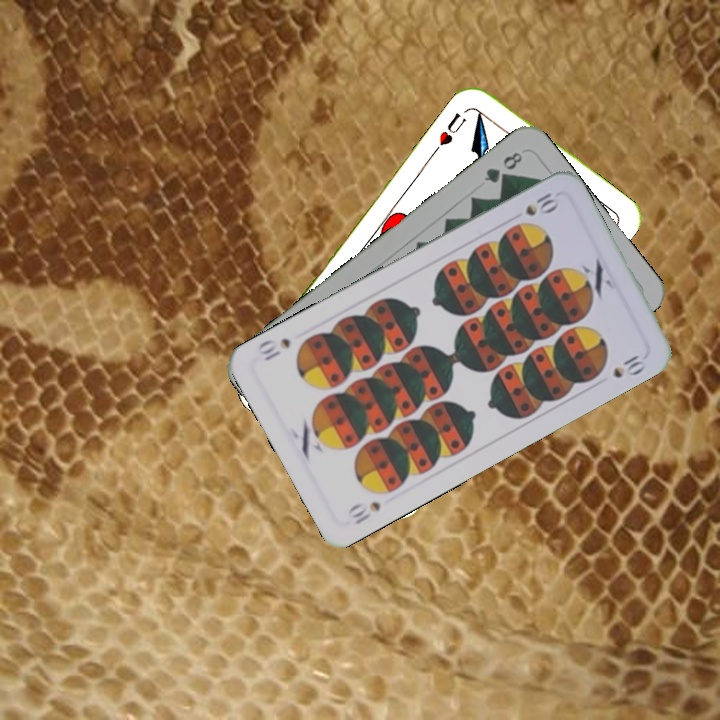G8: (479, 147, 526, 186)
HU: (434, 108, 469, 148)
S10: (343, 497, 383, 528), (521, 188, 559, 219)
